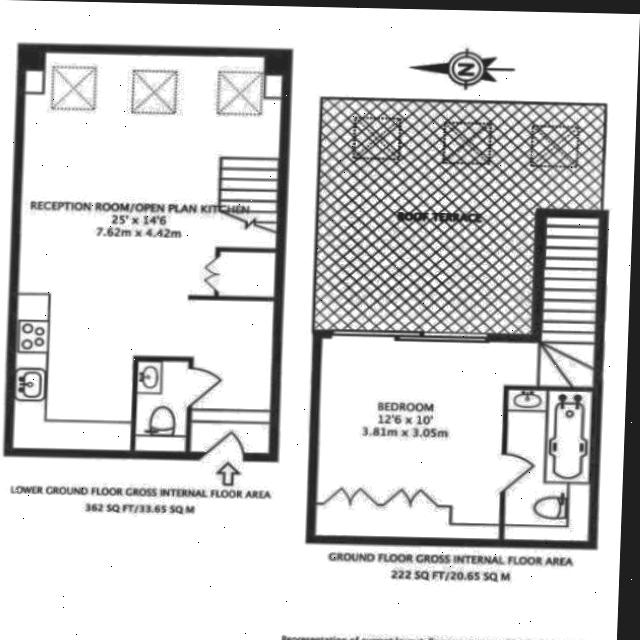room: (13, 49, 282, 457), (315, 99, 605, 335), (316, 339, 537, 540), (504, 390, 592, 542), (136, 360, 188, 451)
